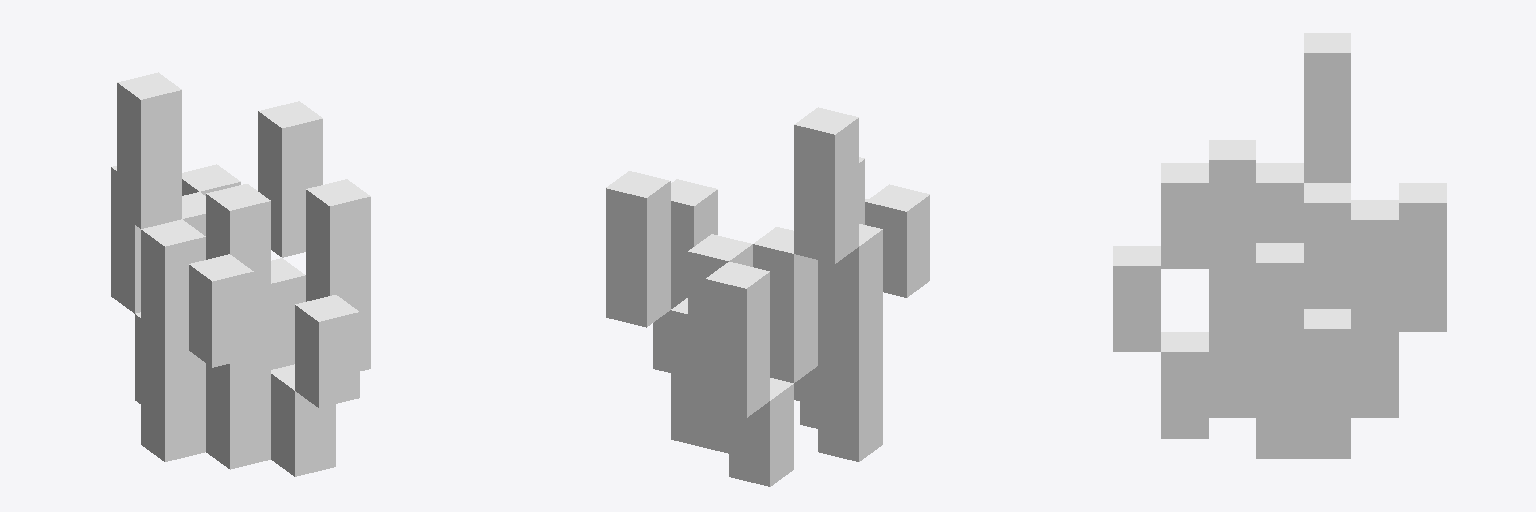
File: CountrySide-7-Vegetation4.obj
The picture shows the model from 3 angles: view 1: azimuth 30°, elevation 25°; view 2: azimuth 150°, elevation 25°; view 3: azimuth 270°, elevation 25°; orthographic projection.
Parts seen in each view (by area): view 1: Vegetation4; view 2: Vegetation4; view 3: Vegetation4.
Part boxes in pixels (left/top/right/bottom): Vegetation4: left=111, top=72, right=370, bottom=476; Vegetation4: left=606, top=107, right=929, bottom=486; Vegetation4: left=1113, top=33, right=1446, bottom=458.
Size of the model in its own units: 0.5 by 0.8 by 0.7.